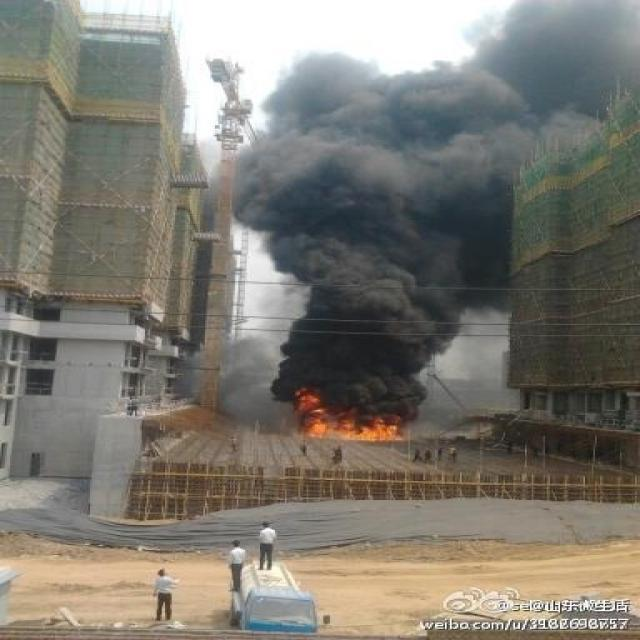Fire: (292, 387, 408, 442)
Smoke: (193, 1, 640, 431)
